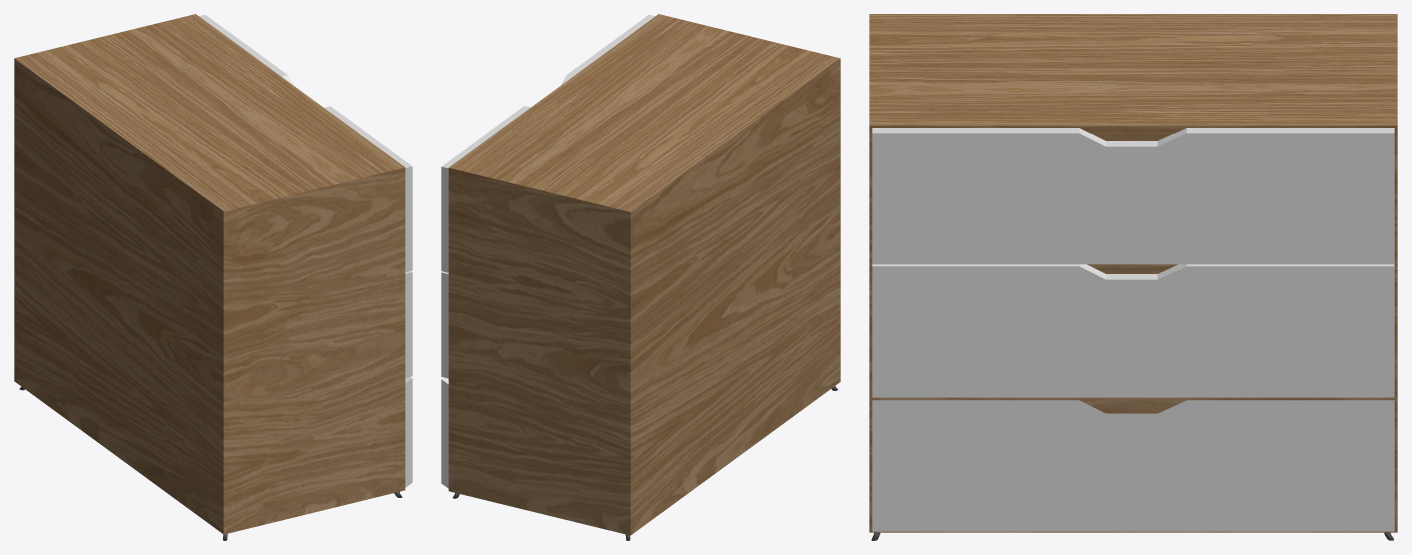
File: modern_interior_dresser.glb
The picture shows the model from 3 angles, left to right: view 1: azimuth 30°, elevation 25°; view 2: azimuth 150°, elevation 25°; view 3: azimuth 270°, elevation 25°; orthographic projection. The views are drawn at different scales.
Parts seen in each view (by area): view 1: Cube_0; view 2: Cube_0; view 3: Cube_0.
Part boxes in pixels (x1,y1,x2,y2): Cube_0: (14,14,412,540); Cube_0: (441,14,840,540); Cube_0: (869,14,1397,540).
Bounding box in the file's own units: 1.05 × 1.74 × 2.
3 materials, 1 textured.
